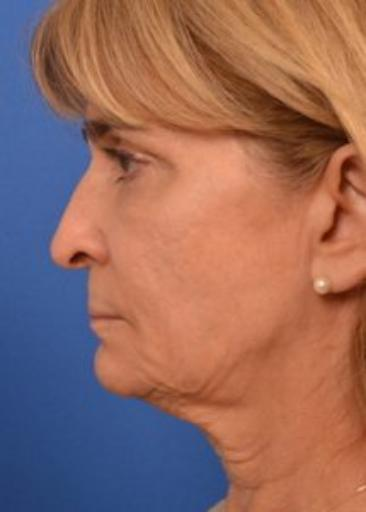left_eye: (102, 147, 164, 183)
